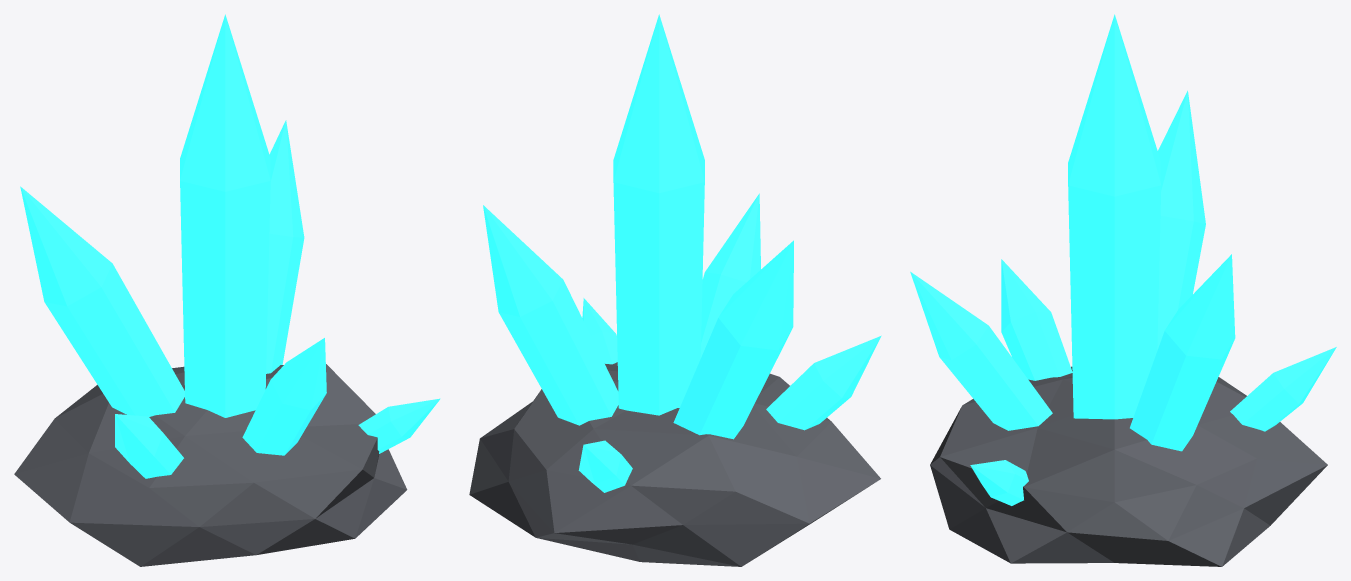
Rendered from crystal.glb.
3 views of the same model, side by side, from view 1: azimuth 30°, elevation 25°; view 2: azimuth 150°, elevation 25°; view 3: azimuth 270°, elevation 25° (orthographic). The views are drawn at different scales.
Parts seen in each view (by area): view 1: crystal; view 2: crystal; view 3: crystal.
Part boxes in pixels (x1,y1,x2,y2): crystal: (14,14,440,566); crystal: (469,14,881,566); crystal: (910,14,1336,566).
Size of the model in its own units: 1.2 by 1.69 by 1.27.
